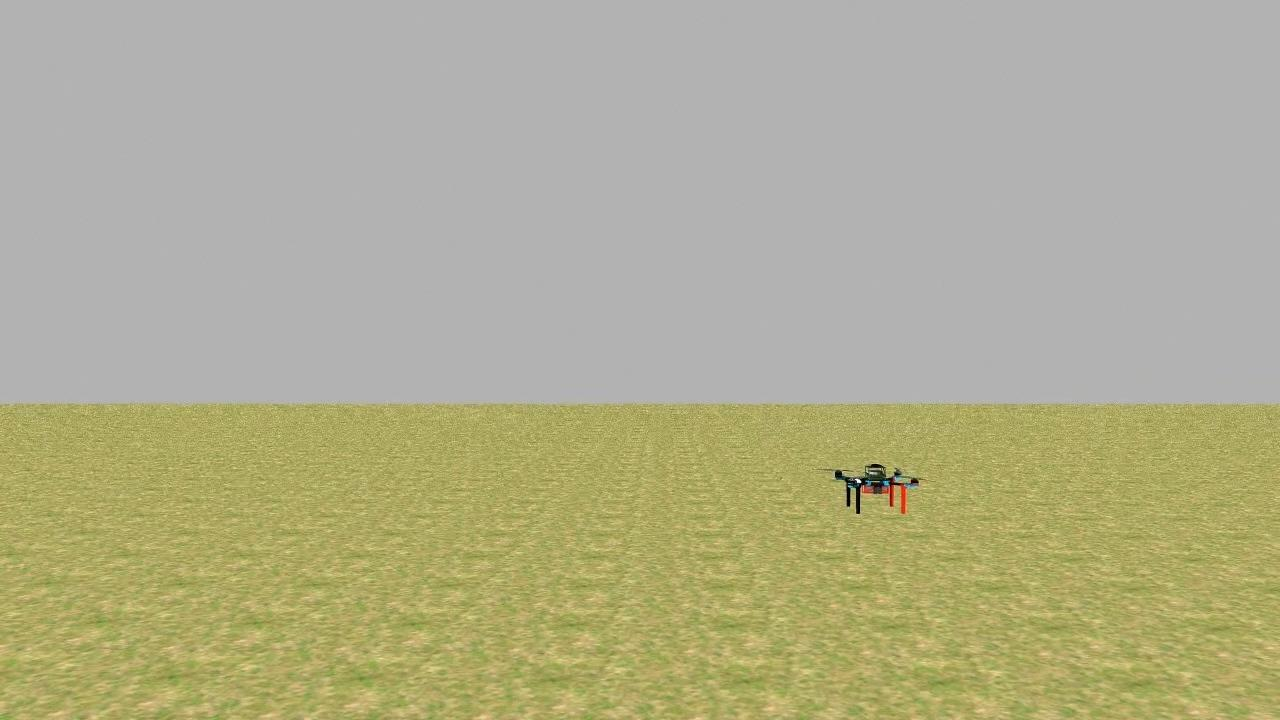UAV: (823, 456, 930, 524)
